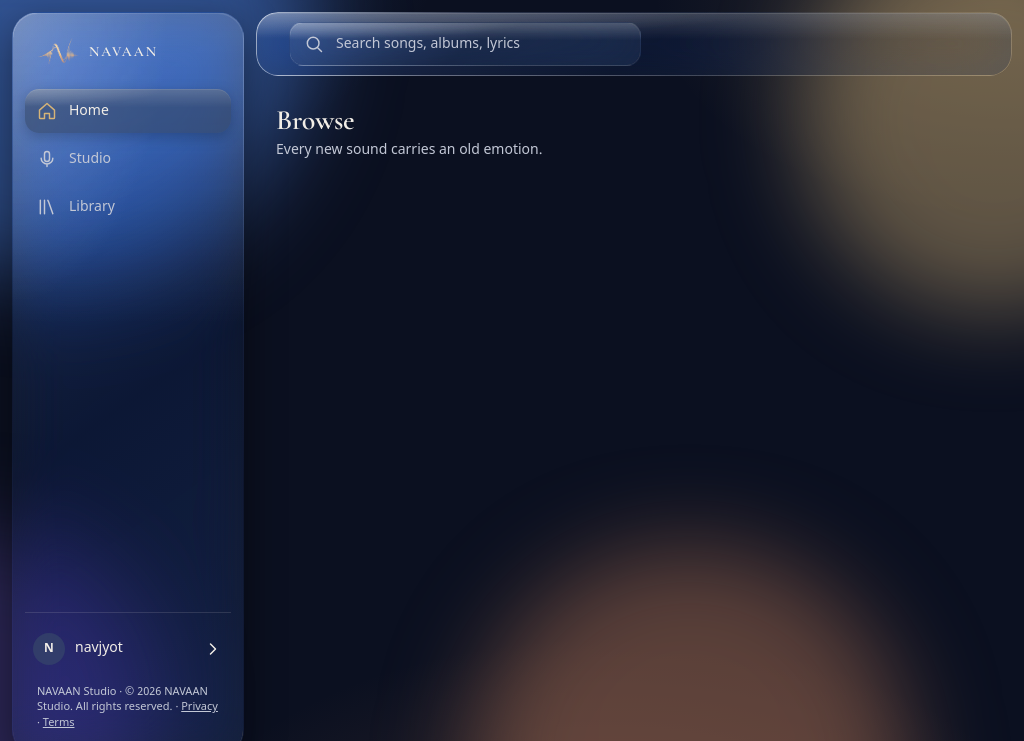
one sign in for the owner on both hosts › on the public site the owner sees Studio, and Settings and Security in the menu, as links to the studio host
The image size is (1024, 741).
Expected: the heading "Browse" is shown, [276,103,354,137]
Click the button with aria-label "Account menu". click: {"x": 128, "y": 649}
box: [25,625,231,673]
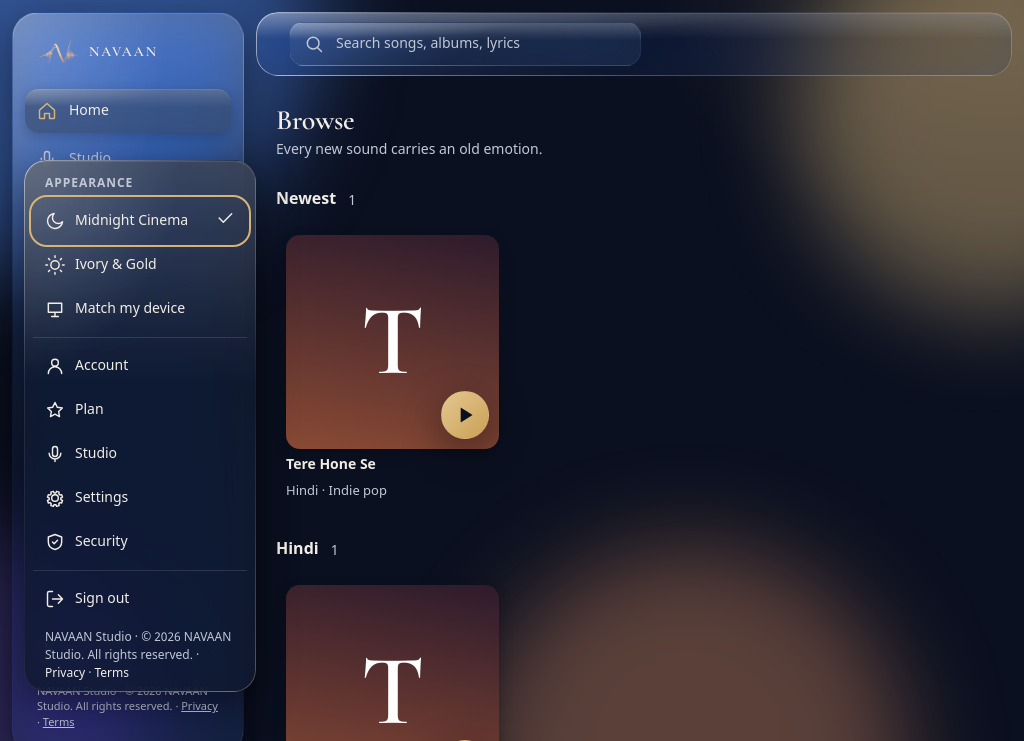
Result: the button "Sign out" is shown at [33,577,247,621]
